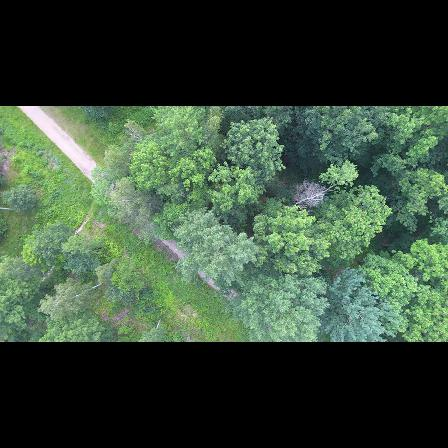Dead: (284, 180, 329, 213)
